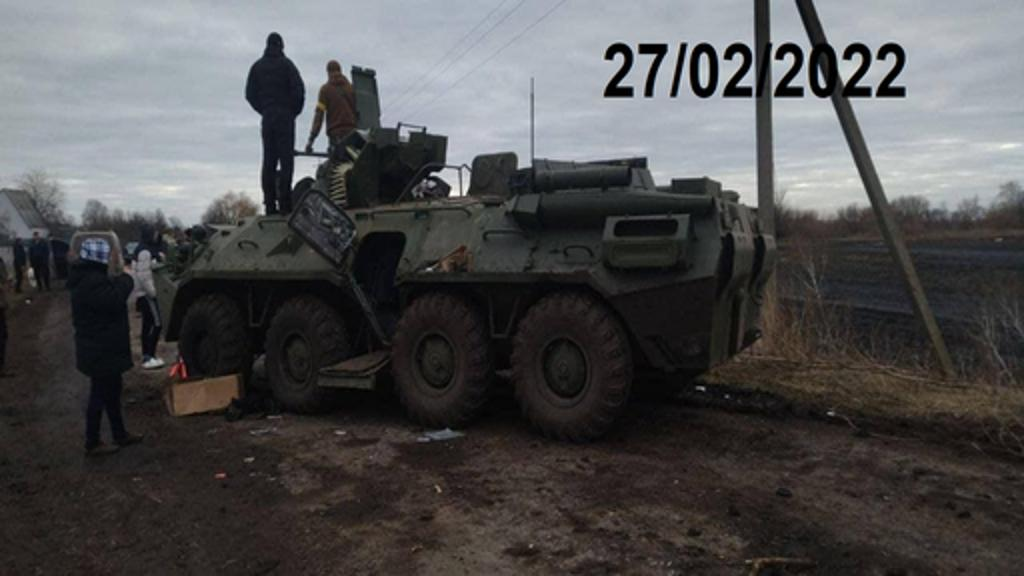APC-IFV: (138, 118, 788, 438)
